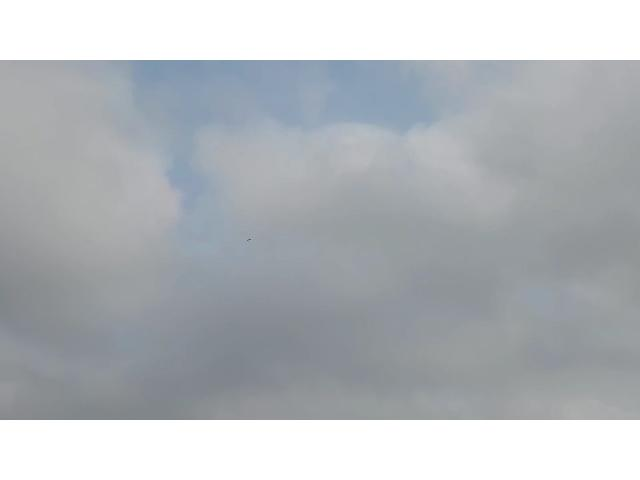Anti-Drone: (247, 238, 251, 242)
